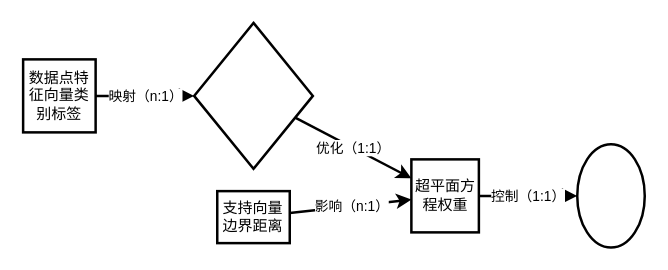
Image size: 668x270. Some labels were removed from this diagram. The shapes that lost their labels are listed below. From the top down, each one's centre as x and y in pixels, then its label:
At point 253,95: "核函数类型参数".
At point 610,195: "间隔宽度C值".
